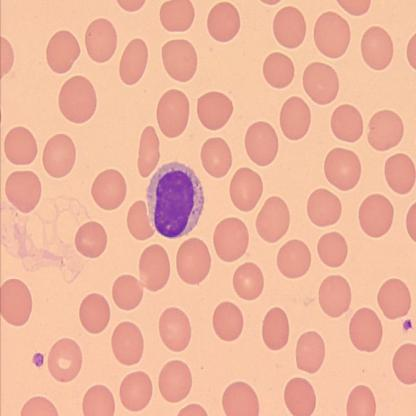Lymphocyte: (146, 160, 204, 240)
